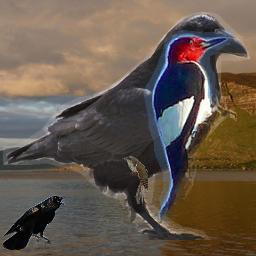Crow: (3, 12, 250, 240), (3, 195, 66, 250)
Cuckoo: (122, 156, 148, 204)
Woodpecker: (136, 23, 237, 220)
